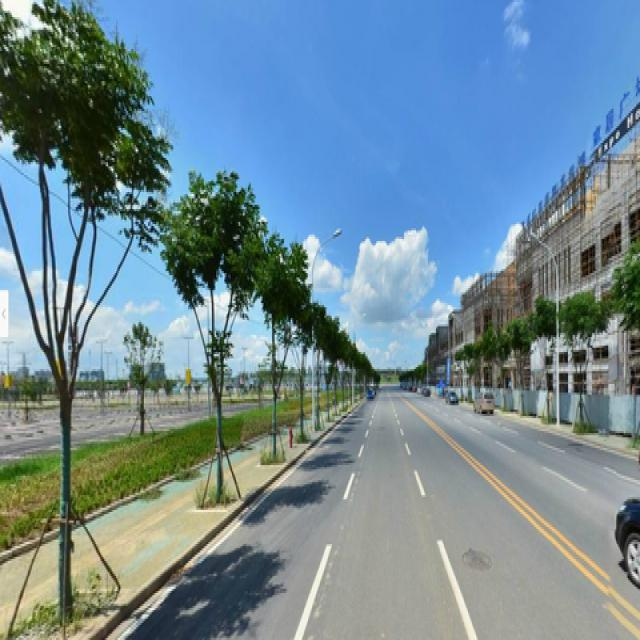koel: (166, 175, 258, 497)
